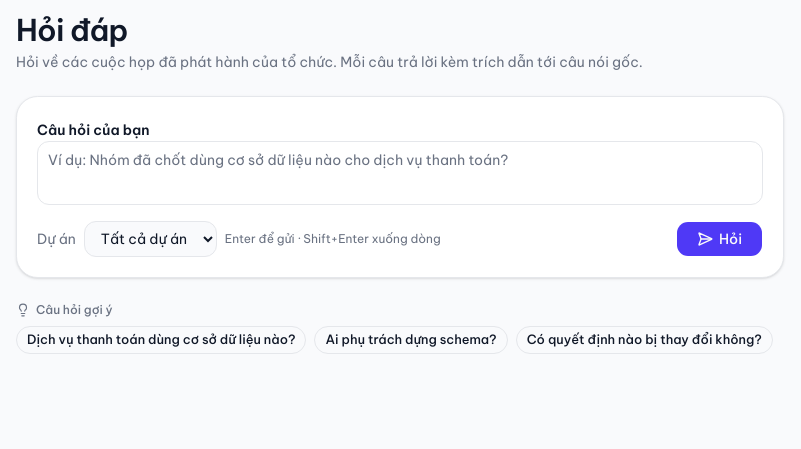
Test case: refusal shows text and no sources list
Click the button "Ai phụ trách dựng schema?".
click(411, 340)  # box [314,326,508,354]
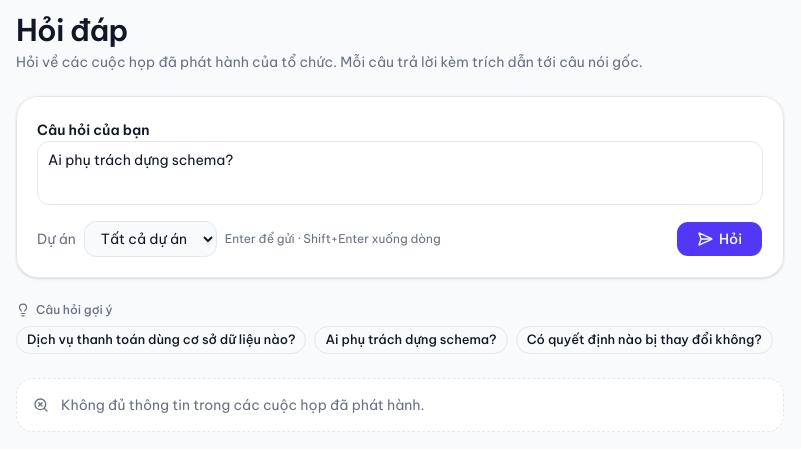
Now the text "Không đủ thông tin trong các cuộc họp đã phát hành." is shown, box [61,395,424,415]
